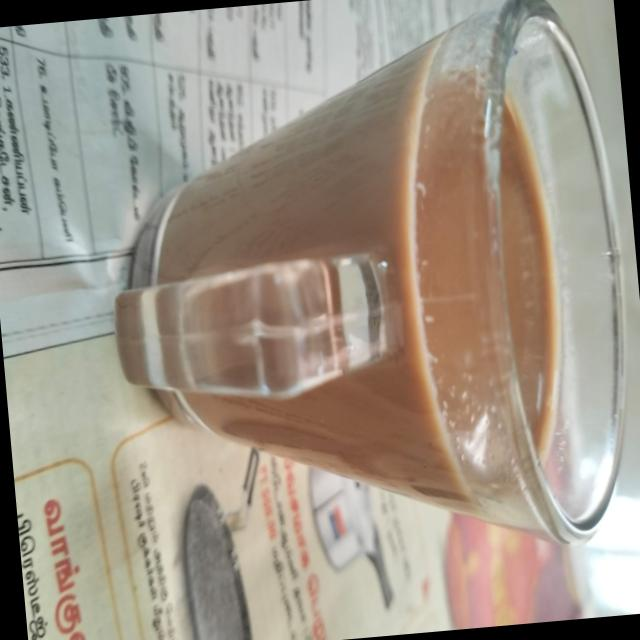glass-VX4N: (89, 0, 640, 585)
